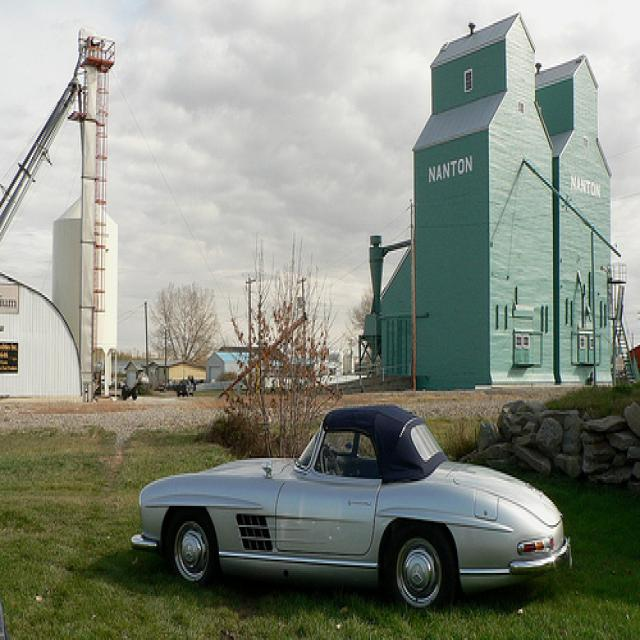Car: (126, 398, 572, 612)
